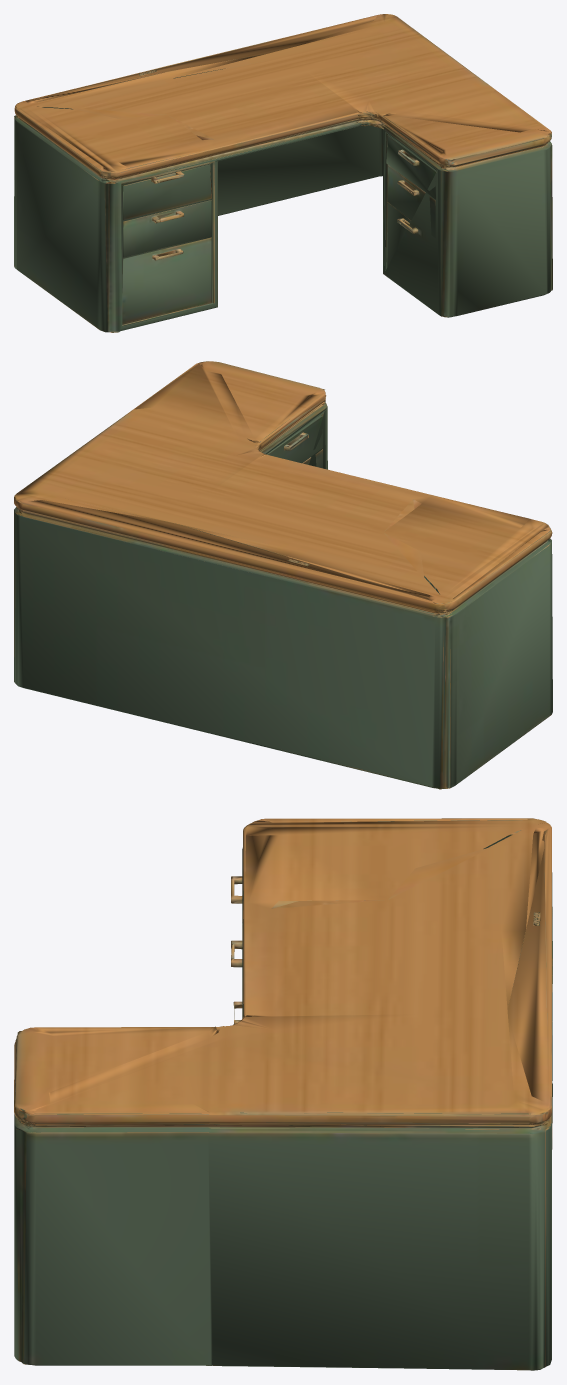
Rendered from desk_l_shaped.glb.
3 renders of one model, top to bottom at view 1: azimuth 30°, elevation 25°; view 2: azimuth 150°, elevation 25°; view 3: azimuth 270°, elevation 25°, orthographic. The views are drawn at different scales.
Parts seen in each view (by area): view 1: prop; view 2: prop; view 3: prop.
Boxes of the visible parts, x1,y1,x2,y2 form: prop: (14, 14, 552, 332); prop: (14, 361, 552, 789); prop: (14, 818, 552, 1370).
Size of the model in its own units: 1.9 by 0.7778 by 1.45.
Materials: 1 (1 with a texture image).
